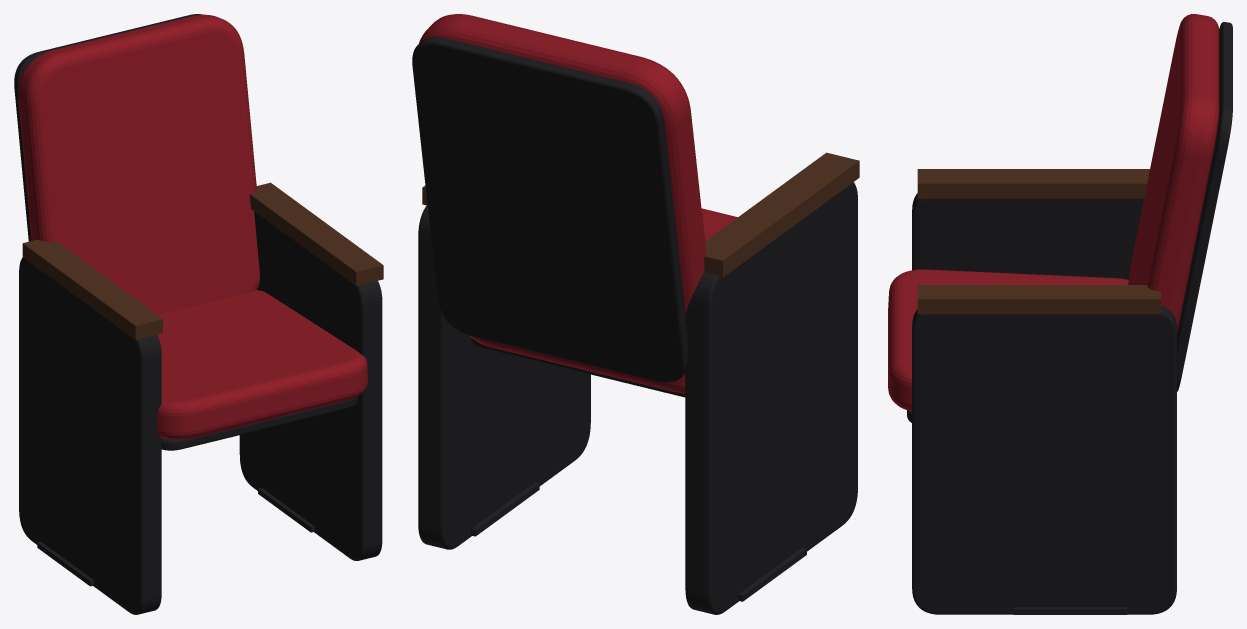
Rendered from theater_seat.glb.
The picture shows the model from 3 angles, left to right: view 1: azimuth 30°, elevation 25°; view 2: azimuth 150°, elevation 25°; view 3: azimuth 270°, elevation 25°; orthographic projection. The views are drawn at different scales.
Size of the model in its own units: 0.6 by 1.06 by 0.6665.
